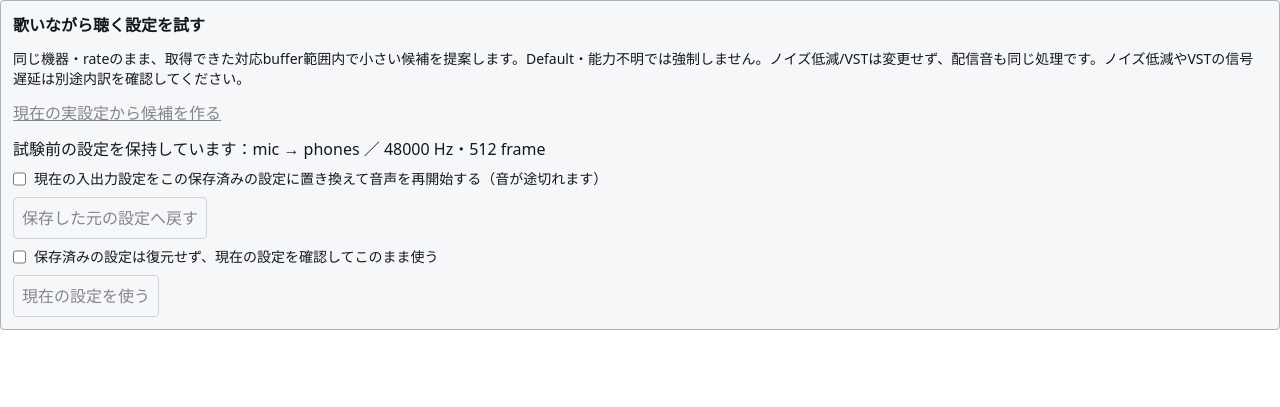
Test: 復元の受理値が原本と異なる場合は原本を保持し、期待した現在状態を渡す
Click the checkbox labelled "現在の入出力設定をこの保存済みの設定に置き換えて音声を再開始する（音が途切れます）". click: click(20, 179)
box: 13,169 -> 26,189
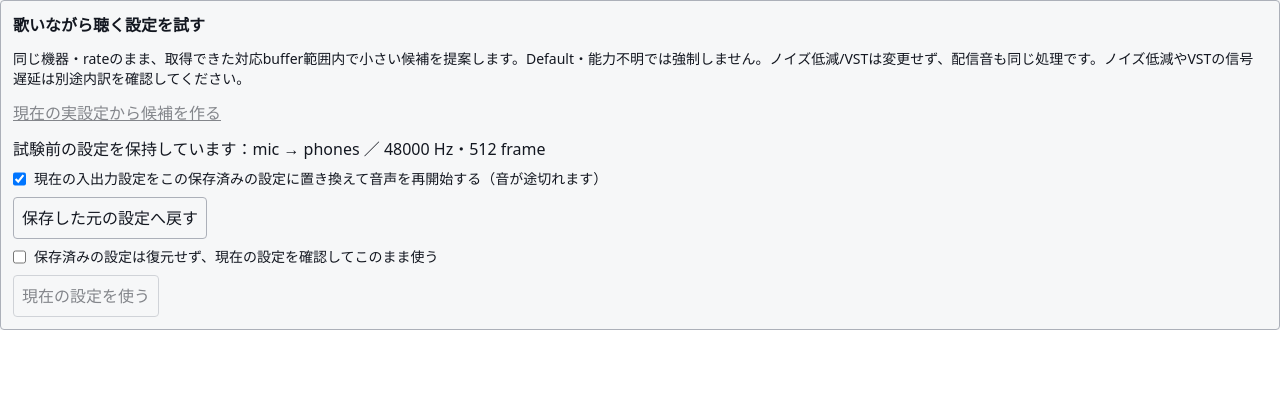
Result: the button "保存した元の設定へ戻す" is enabled
Click the button "保存した元の設定へ戻す". click: click(110, 218)
box: 13,197 -> 207,239
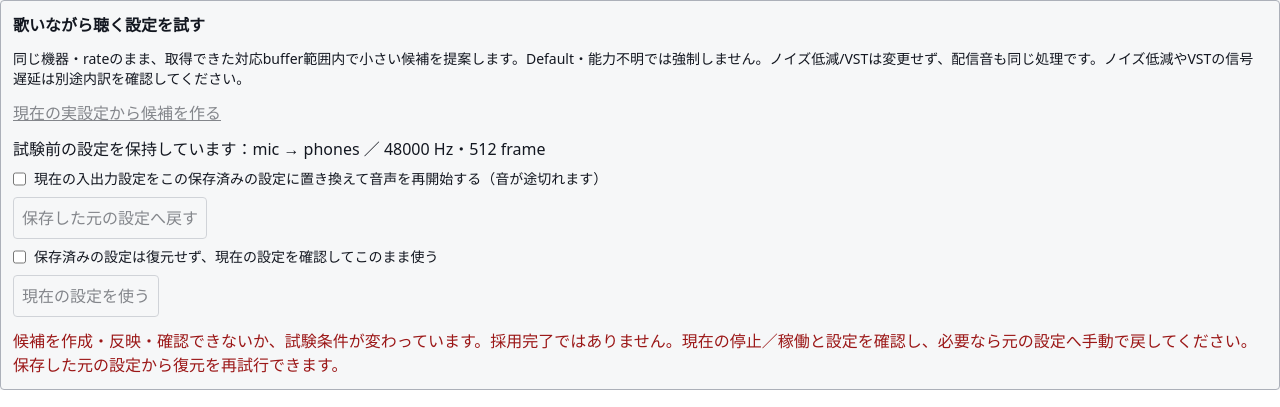
Result: the message is shown at 13,329 -> 1267,377
